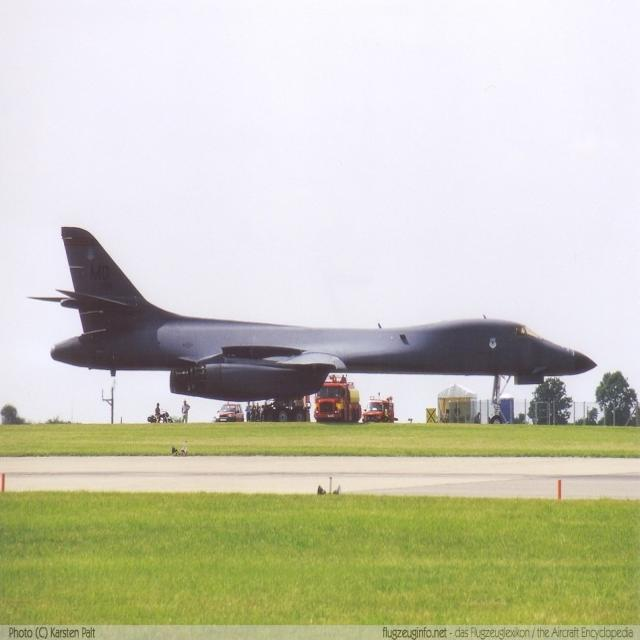B1: (18, 166, 607, 439)
